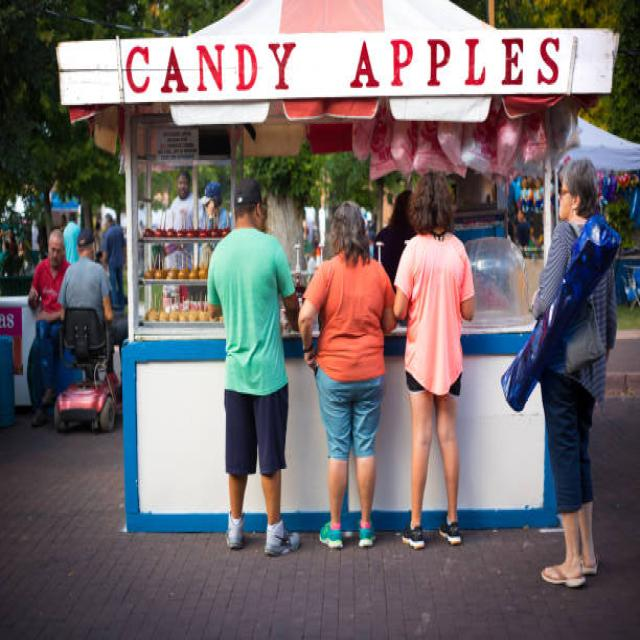Emperan: (39, 0, 630, 560)
